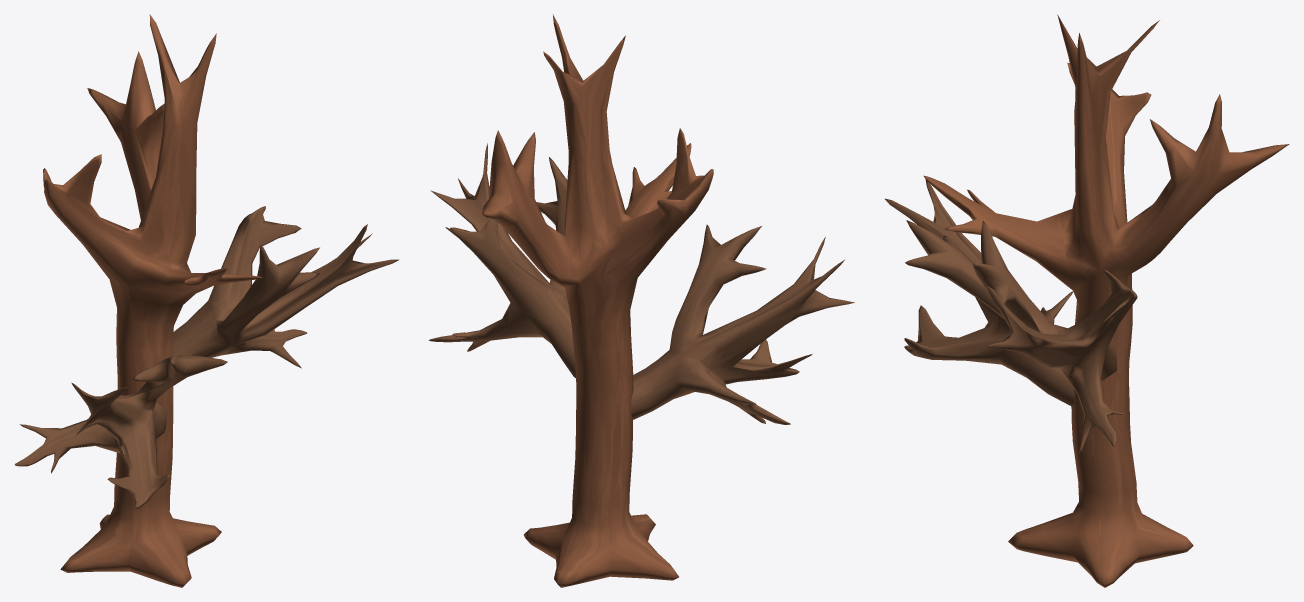
Rendered from Tree8.fbx.
The picture shows the model from 3 angles, left to right: view 1: azimuth 30°, elevation 25°; view 2: azimuth 150°, elevation 25°; view 3: azimuth 270°, elevation 25°; orthographic projection. The views are drawn at different scales.
Parts seen in each view (by area): view 1: Tree8; view 2: Tree8; view 3: Tree8.
Part boxes in pixels (<box>): Tree8: <box>15,14,399,587</box>; Tree8: <box>428,14,854,587</box>; Tree8: <box>885,14,1289,587</box>.
Bounding box in the file's own units: 7.42 × 10.23 × 6.81.
